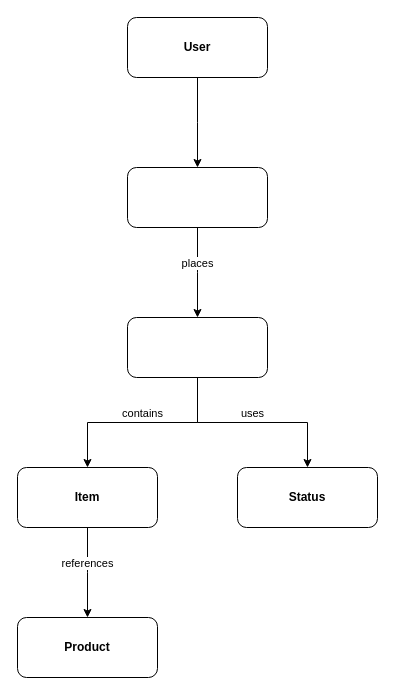
Some shapes in this 395 by 695 pixel diagram are drawn without their labels. The centre of each missing label's shape, as x and y in pixels:
"Customer" goes at point (197, 197).
"Order" goes at point (197, 347).
